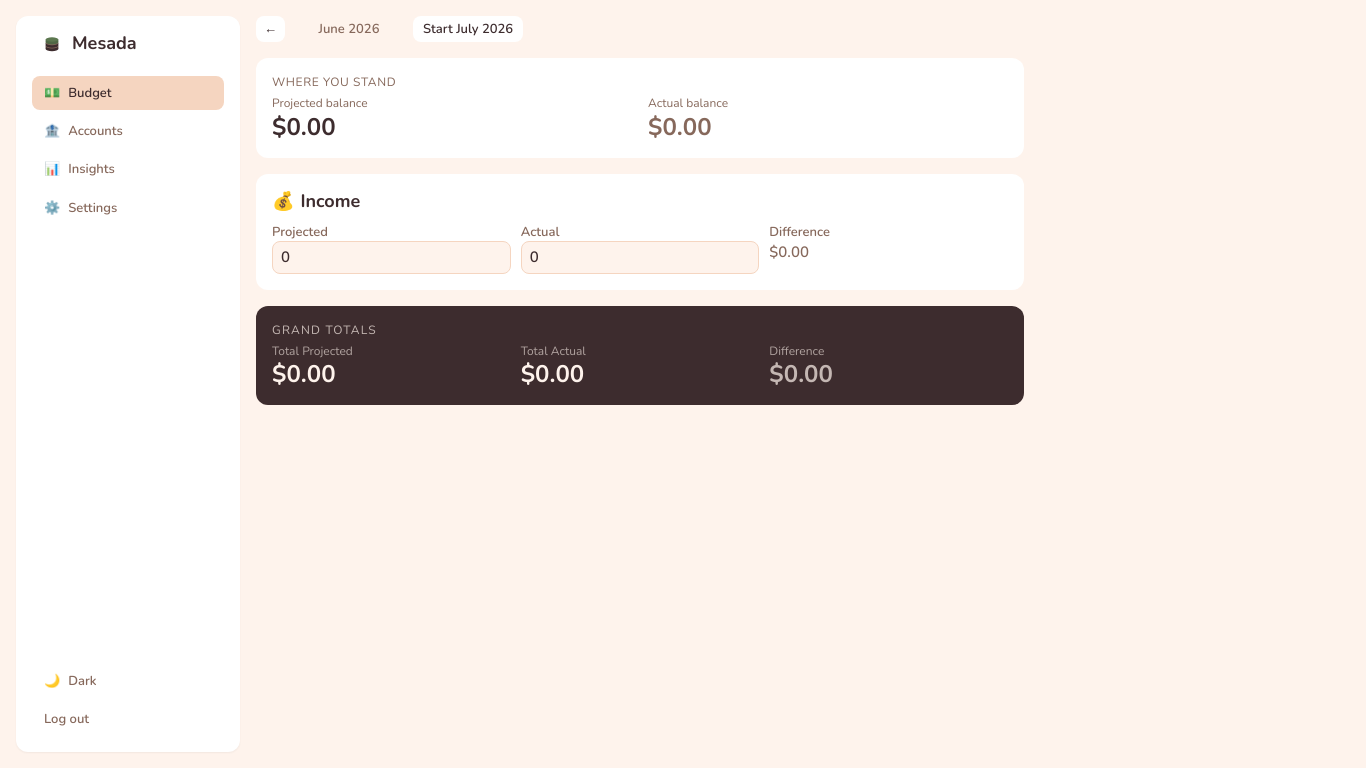
Scenario: App › renders the Insights page after its lazy chunk resolves
Click the button "📊 Insights": (128, 170) [32,152,224,187]
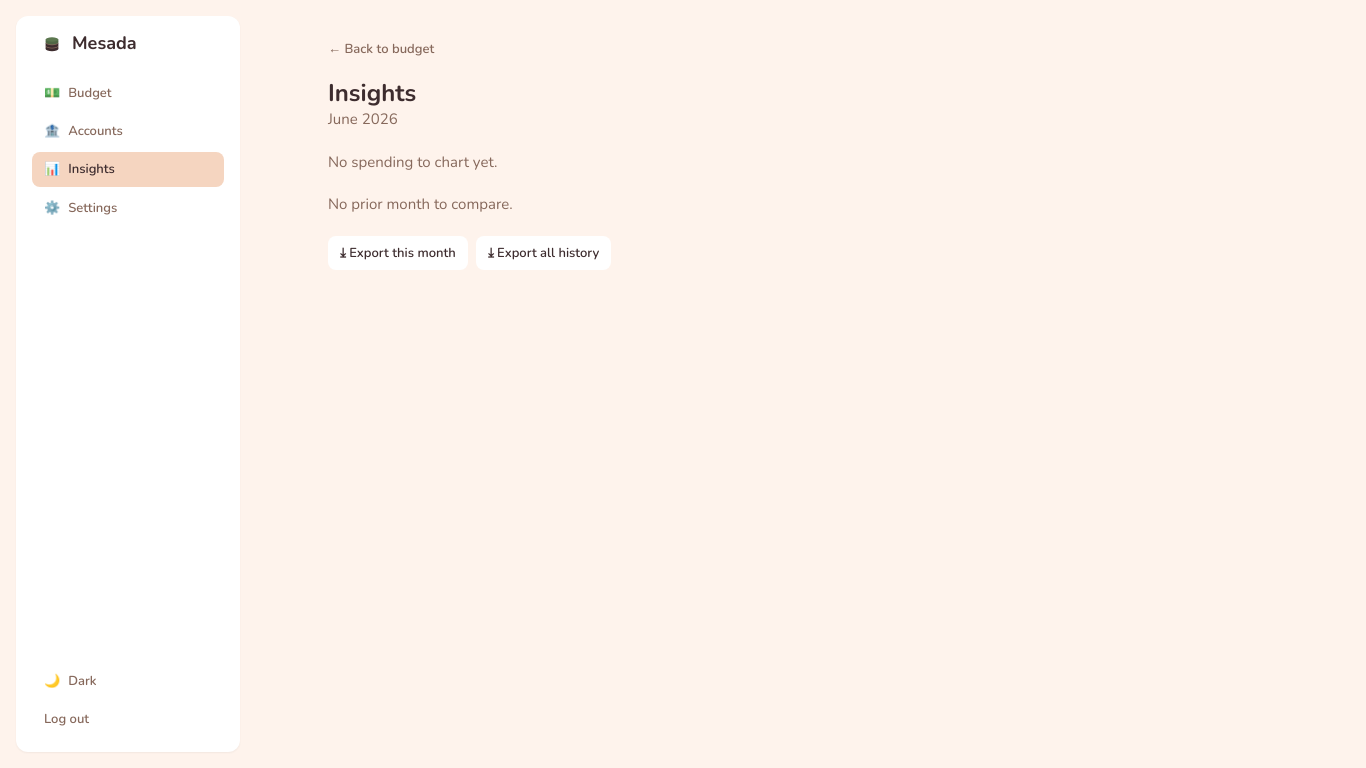
Now the heading "Insights" is shown, box [328,77,416,109]
